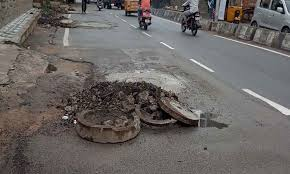Manhole-Closed: (102, 62, 191, 98)
car: (249, 1, 290, 37)
human: (179, 1, 207, 29), (136, 1, 156, 16)
